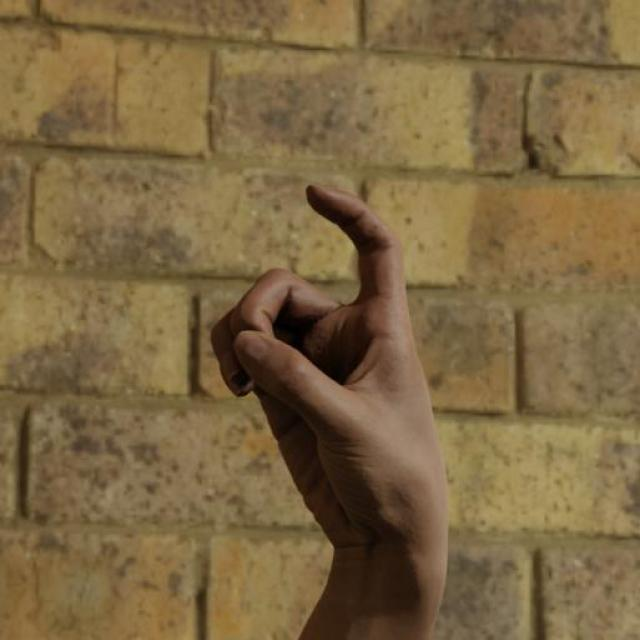X: (202, 173, 445, 573)
